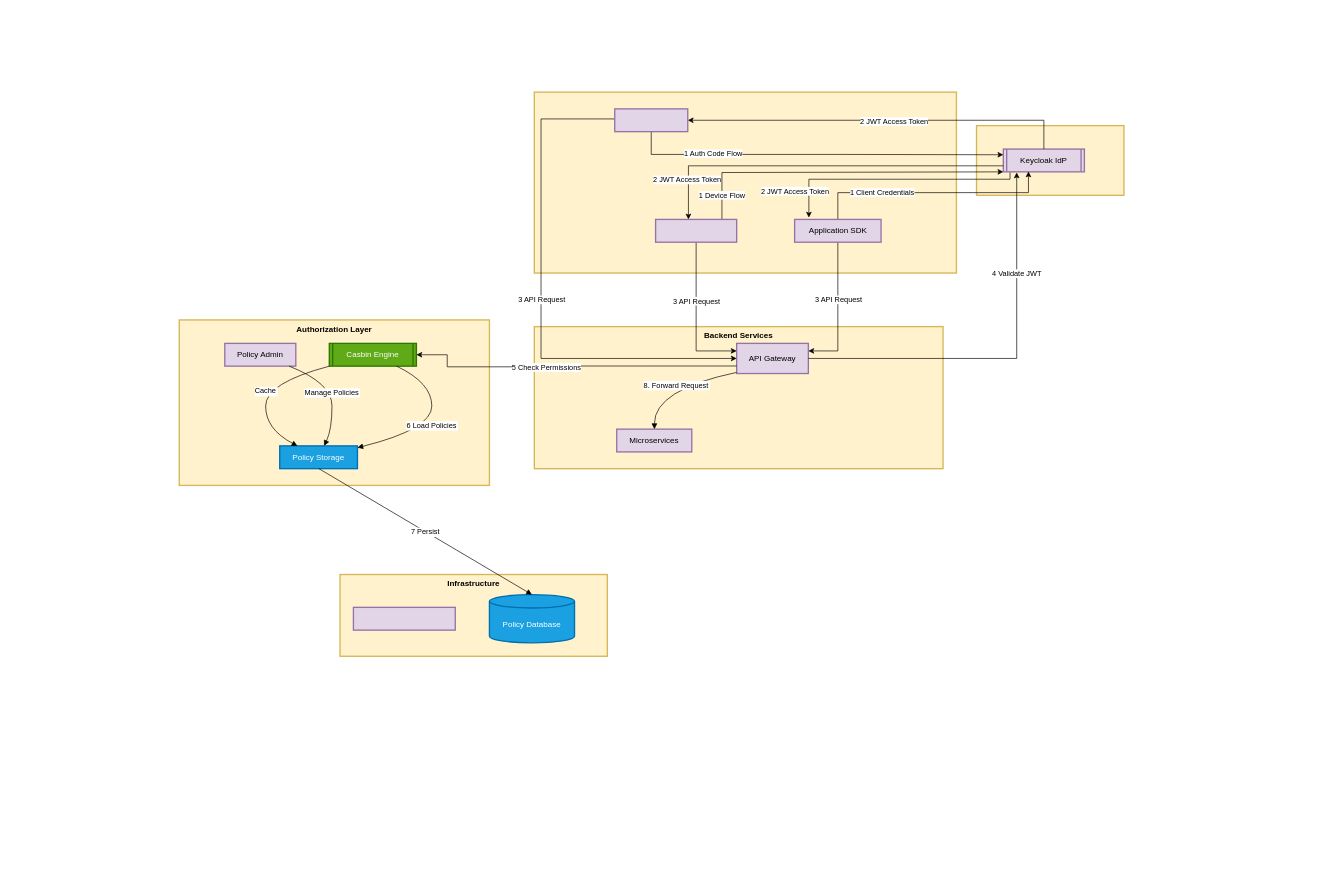
Image size: 1329x894. Some labels were removed from this diagram. Here are the shapes that lost their labels. From the top down, the box of each, then its label:
(614, 108, 688, 132): Web Browser
(976, 125, 1124, 196): Authentication Layer
(533, 91, 957, 273): Clients
(655, 218, 737, 243): Command Line
(352, 606, 456, 630): Kubernetes Cluster
